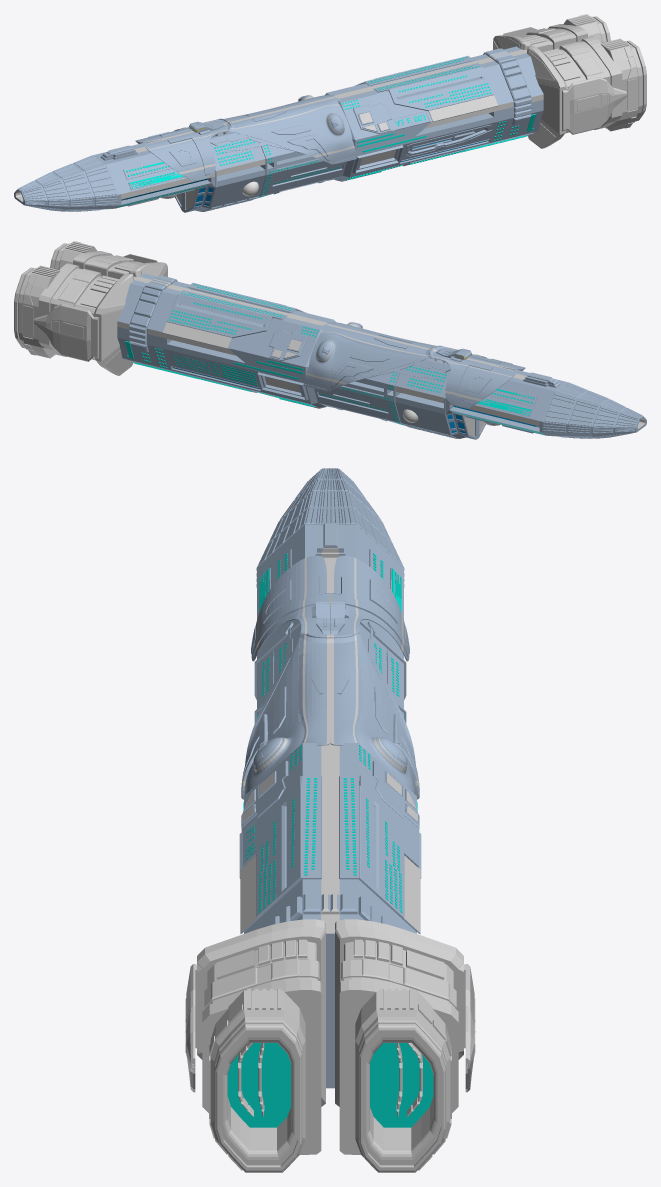
3 renders of one model, top to bottom at view 1: azimuth 30°, elevation 25°; view 2: azimuth 150°, elevation 25°; view 3: azimuth 270°, elevation 25°, orthographic. The views are drawn at different scales.
Visible parts, largest first — view 1: Cube, Cube.003_Cube.002, Cube.002, Cube.005, Cube.007, Cube.004; view 2: Cube, Cube.003_Cube.002, Cube.002, Cube.005, Cube.006, Cube.007, Cube.004; view 3: Cube.003_Cube.002, Cube, Cube.002, Cube.003_Cube.000, Cube.005, Cube.004.
Boxes of the visible parts, bbox=[...] form: Cube: bbox=[14, 46, 543, 212]; Cube.003_Cube.002: bbox=[493, 14, 646, 148]; Cube.002: bbox=[135, 94, 358, 181]; Cube.005: bbox=[117, 57, 535, 207]; Cube.007: bbox=[125, 139, 487, 206]; Cube.004: bbox=[189, 121, 224, 134]; Cube: bbox=[117, 273, 646, 439]; Cube.003_Cube.002: bbox=[14, 241, 167, 375]; Cube.002: bbox=[303, 321, 525, 408]; Cube.005: bbox=[125, 284, 543, 434]; Cube.006: bbox=[174, 355, 257, 385]; Cube.007: bbox=[173, 367, 535, 433]; Cube.004: bbox=[436, 348, 471, 361]; Cube.003_Cube.002: bbox=[185, 919, 475, 1172]; Cube: bbox=[239, 468, 421, 1088]; Cube.002: bbox=[241, 555, 419, 799]; Cube.003_Cube.000: bbox=[227, 1043, 433, 1127]; Cube.005: bbox=[243, 553, 417, 912]; Cube.004: bbox=[311, 593, 349, 634].
Bounding box in the file's own units: 8260 × 1231 × 1730.
